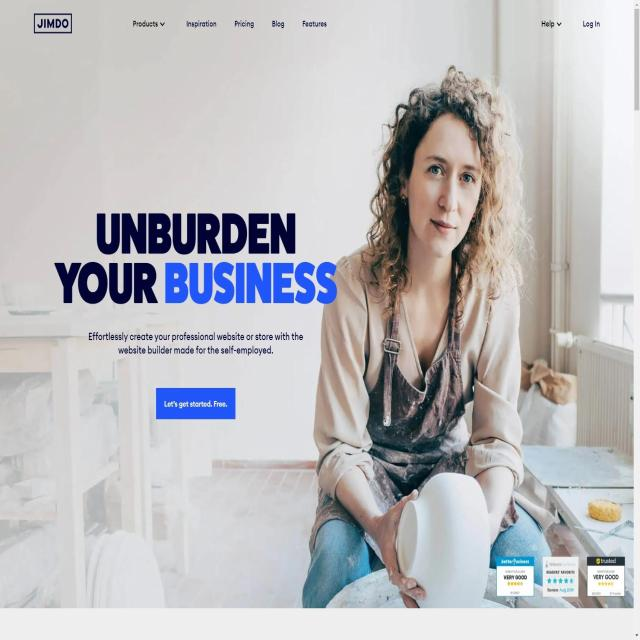button: (155, 387, 236, 420)
select: (130, 16, 168, 32), (539, 14, 566, 33)
